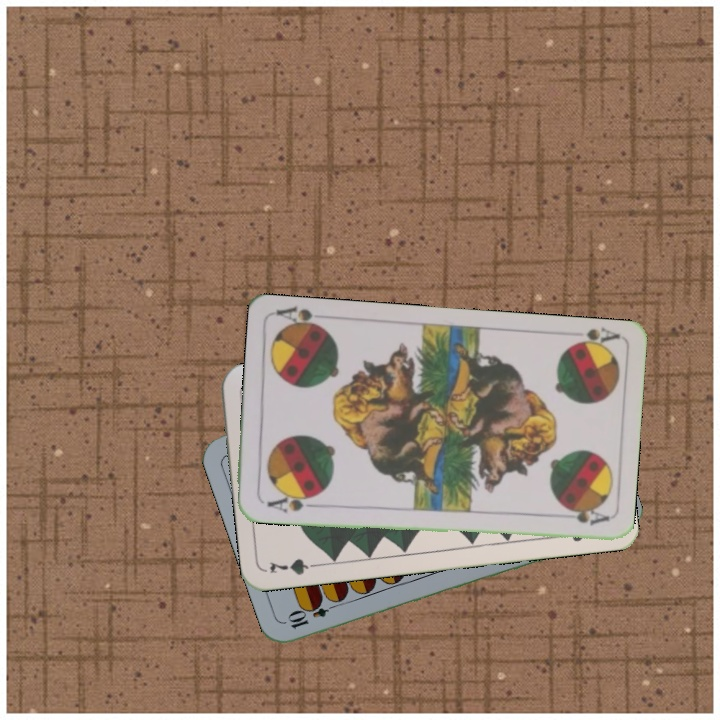E10: (284, 597, 342, 631)
G7: (265, 554, 324, 578)
SA: (562, 325, 621, 353), (263, 488, 319, 516)
